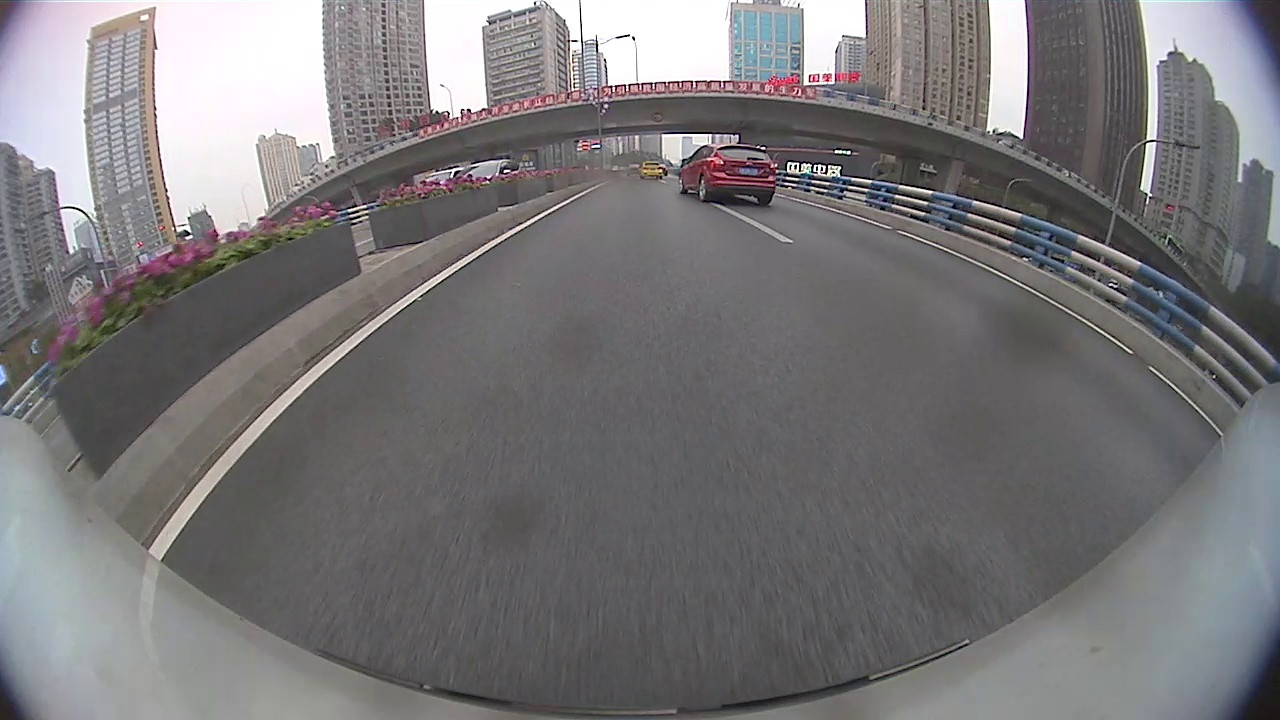car: (675, 139, 782, 210), (452, 157, 527, 187), (419, 162, 463, 189), (636, 160, 667, 181)
rear: (697, 177, 710, 204)
